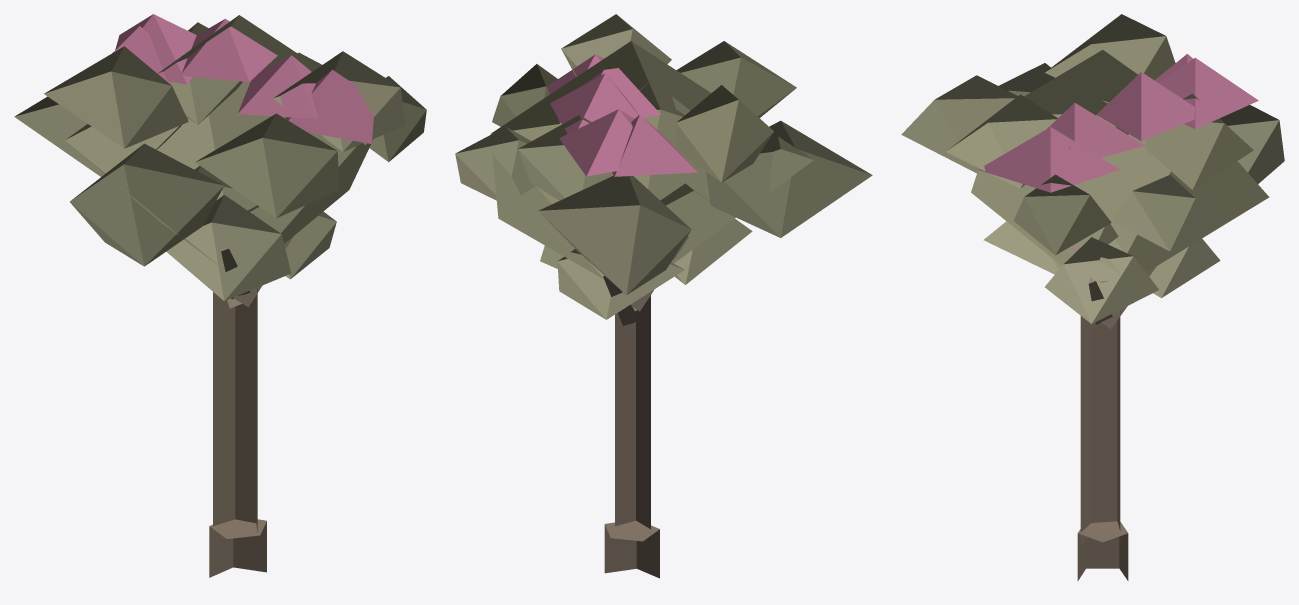
Rendered from tree.sub.paulownia__winter.glb.
3 renders of one model, left to right at view 1: azimuth 30°, elevation 25°; view 2: azimuth 150°, elevation 25°; view 3: azimuth 270°, elevation 25°, orthographic. The views are drawn at different scales.
Visible parts, largest first — view 1: tree.sub.paulownia__winter; view 2: tree.sub.paulownia__winter; view 3: tree.sub.paulownia__winter.
Boxes of the visible parts, <box> form: tree.sub.paulownia__winter: <box>14,14,426,577</box>; tree.sub.paulownia__winter: <box>455,14,872,578</box>; tree.sub.paulownia__winter: <box>901,14,1284,581</box>.
Size of the model in its own units: 10.93 by 16.56 by 10.89.
